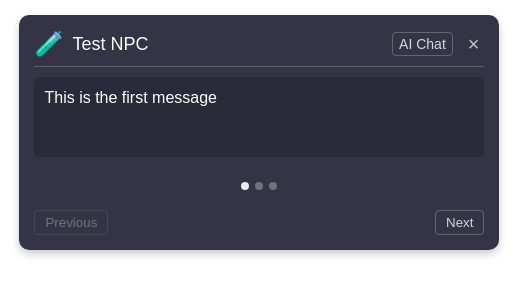
Test: ConversationModal › should render the input form in AI mode
// Switch to AI mode
Click the button "AI Chat" at (422, 44), box x1=392 y1=32 x2=453 y2=56
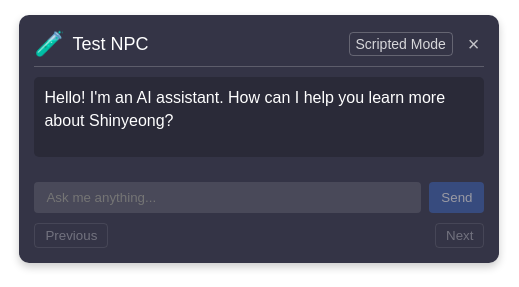
Check: the field with placeholder "Ask me anything..." is shown, box x1=34 y1=182 x2=421 y2=213
Check: the button "Send" is shown, box x1=429 y1=182 x2=484 y2=213
